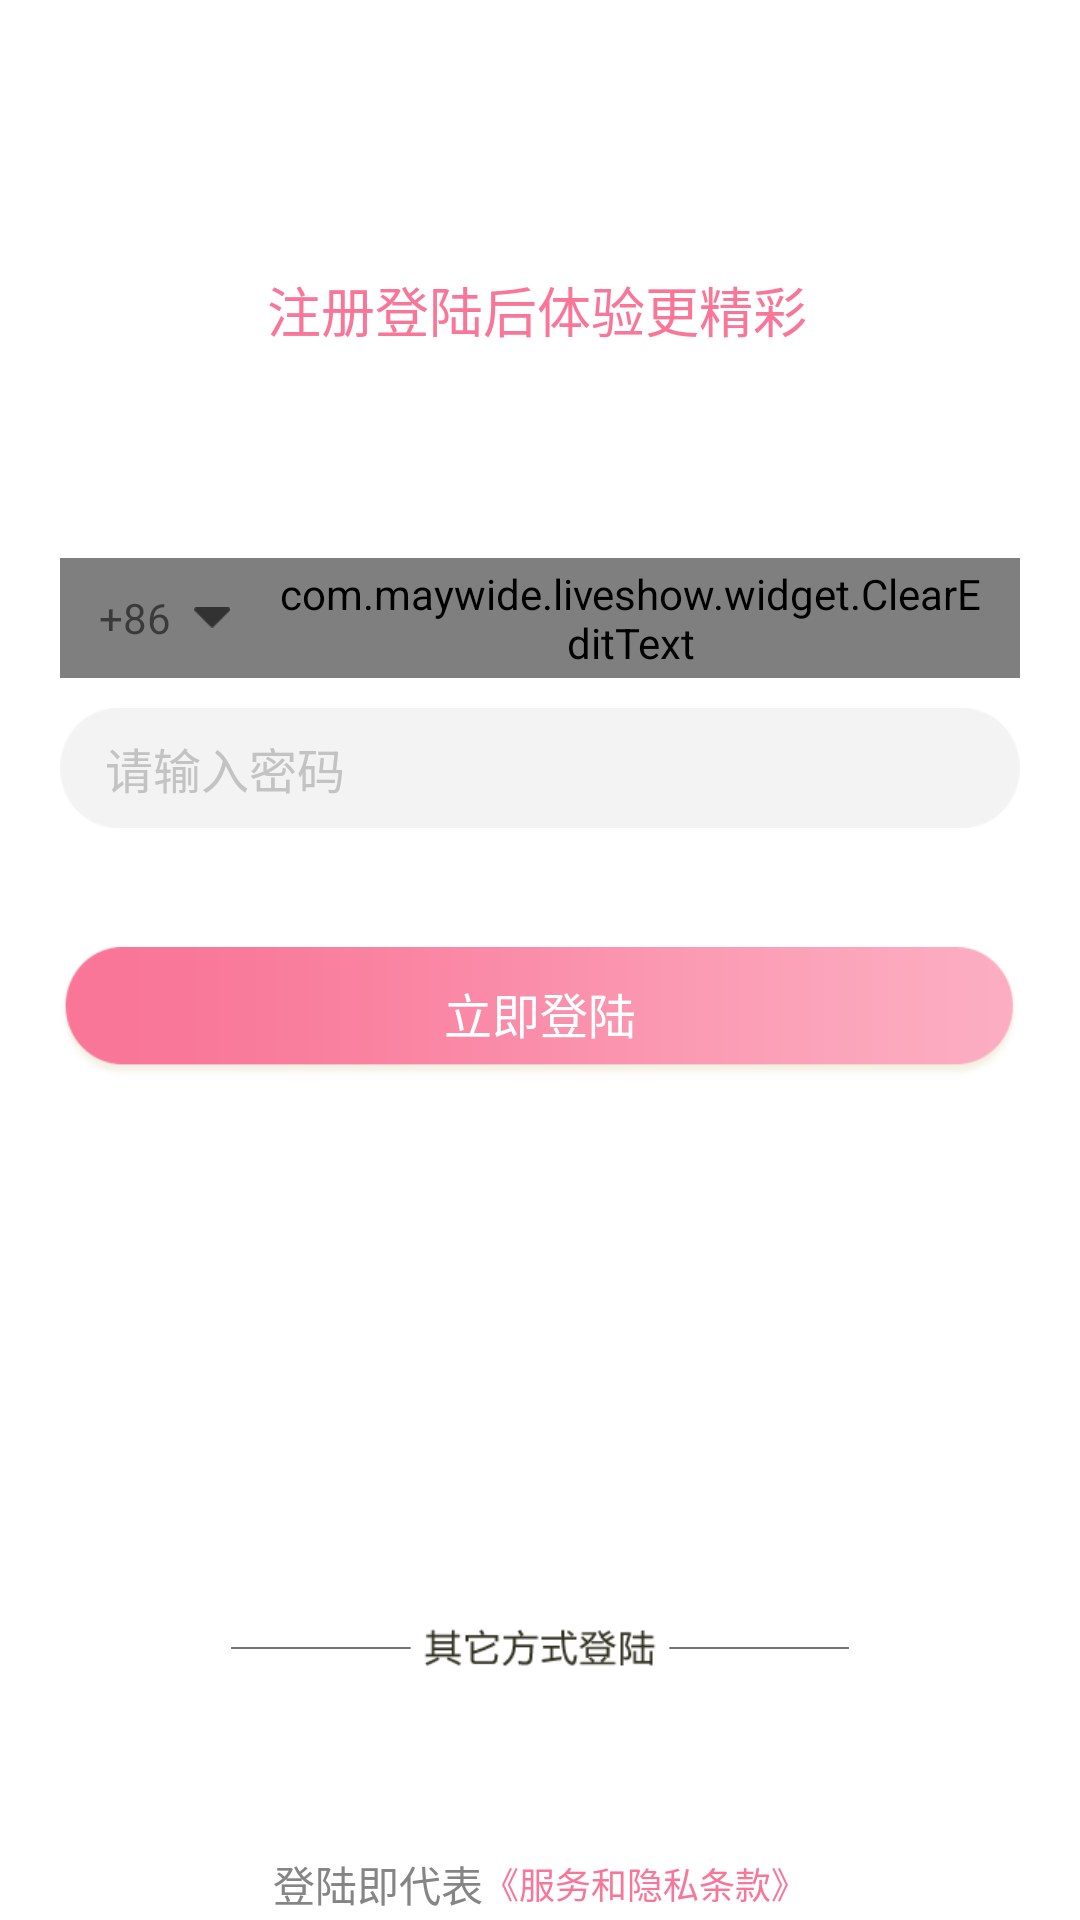

Icon bounding boxes for this 1080px×1920px phone screenshot, format (x1, y1, x2, y2):
drop down: (194, 607, 230, 628)
